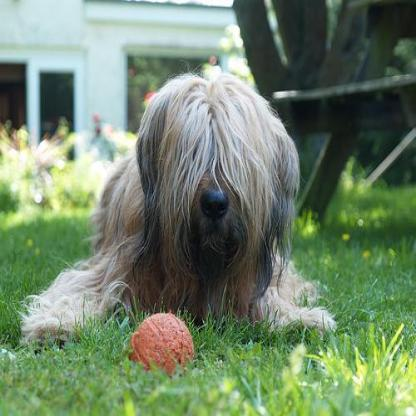briard: (15, 67, 338, 378)
